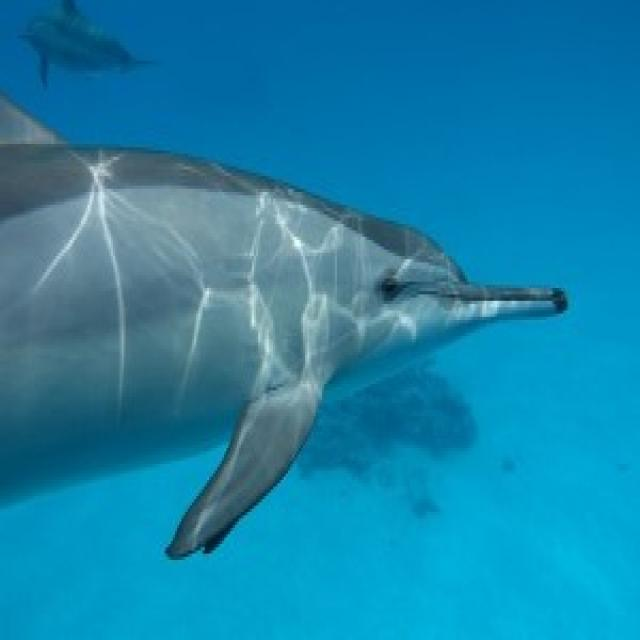Dolphin: (0, 88, 569, 611), (17, 0, 154, 82)
